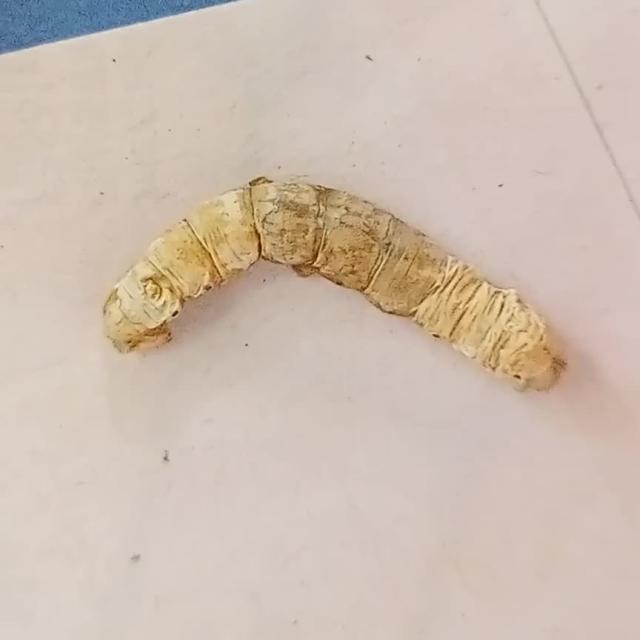Grasserie: (101, 147, 569, 404)
